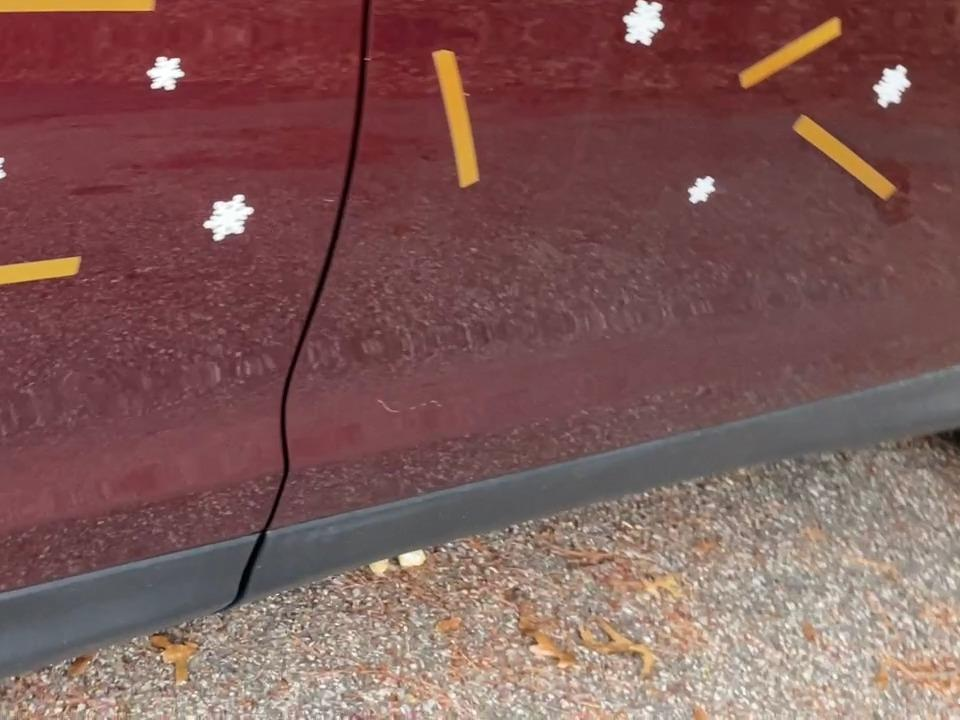dent: (201, 189, 260, 254), (616, 0, 677, 62), (867, 57, 919, 118), (677, 163, 731, 212), (145, 49, 190, 101), (0, 146, 14, 204)
scratch: (787, 109, 907, 213), (733, 3, 849, 98), (425, 39, 494, 197), (0, 246, 85, 337), (0, 0, 174, 28)
